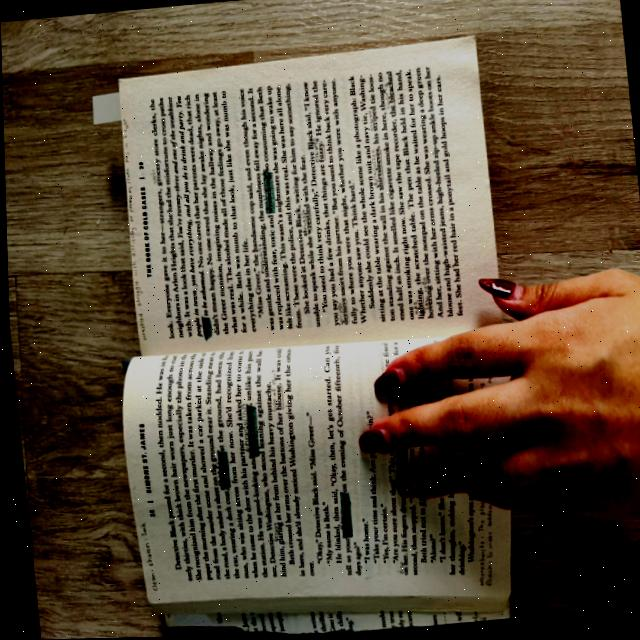Book: (91, 37, 517, 635)
